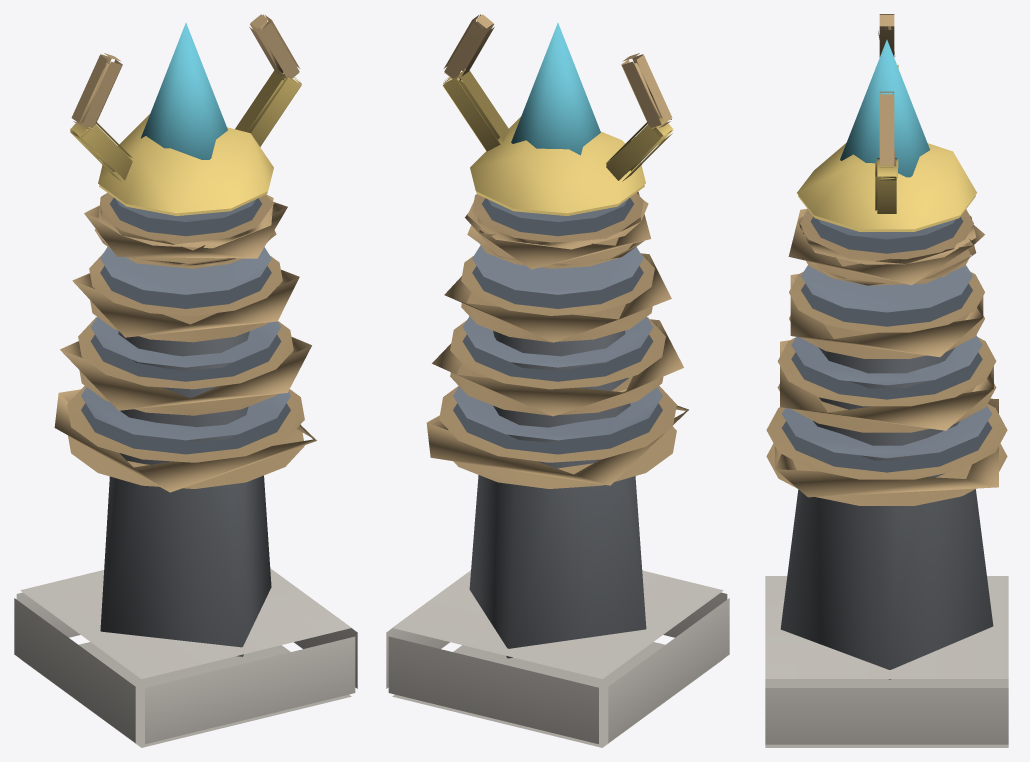
The model's file is hidden_proctor_tesla_lod2.glb.
3 renders of one model, left to right at view 1: azimuth 30°, elevation 25°; view 2: azimuth 150°, elevation 25°; view 3: azimuth 270°, elevation 25°, orthographic.
Parts seen in each view (by area): view 1: hidden_proctor_tesla.001; view 2: hidden_proctor_tesla.001; view 3: hidden_proctor_tesla.001.
Part boxes in pixels (x1,y1,x2,y2): hidden_proctor_tesla.001: (14,14,357,747); hidden_proctor_tesla.001: (386,14,729,747); hidden_proctor_tesla.001: (765,14,1008,747).
Bounding box in the file's own units: 1.15 × 3.24 × 1.15.
